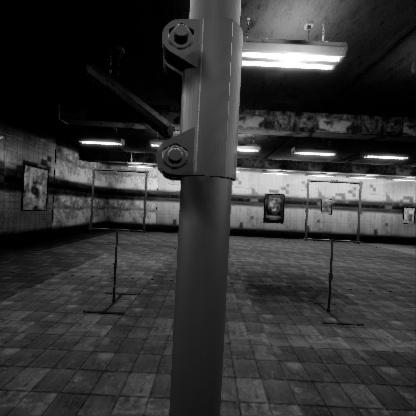gate: (90, 182, 153, 248), (305, 172, 367, 237)
